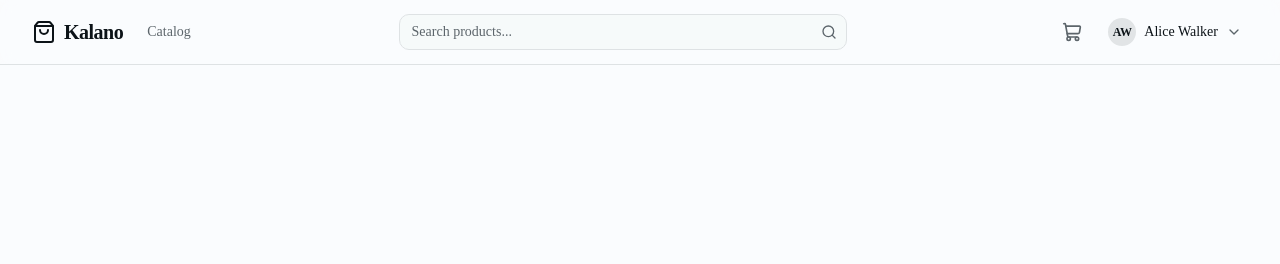
Navbar › Authenticated State - Buyer › shows My Orders and My Cart links when dropdown is opened
Click the button "AW Alice Walker" at (1175, 32), box [1102,12,1248,52]
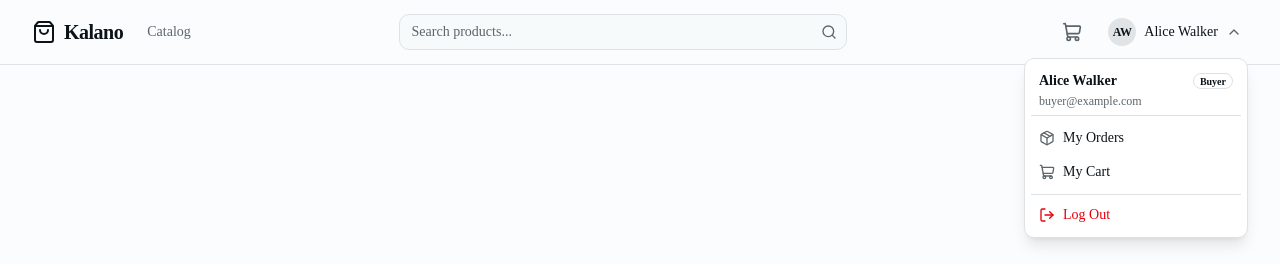
Expected: the menu is shown, [1024,58,1248,238]
Expected: the text "buyer@example.com" is shown, [1039,94,1142,108]
Expected: the text "Buyer" is shown, [1193,73,1233,89]
